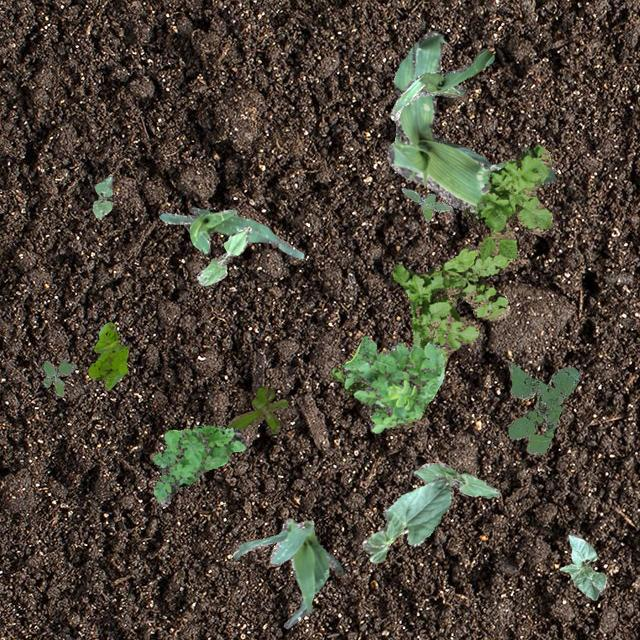crop: (386, 30, 554, 212), (232, 516, 342, 628), (360, 477, 450, 562), (389, 48, 494, 120), (158, 206, 302, 258), (558, 532, 606, 600), (196, 226, 250, 284), (412, 462, 498, 496), (92, 174, 112, 218)
weed: (330, 144, 552, 428), (341, 336, 444, 432), (152, 424, 245, 506), (506, 361, 578, 454), (226, 384, 286, 432), (86, 320, 126, 390), (400, 187, 450, 220), (40, 358, 76, 396), (480, 164, 500, 192)
